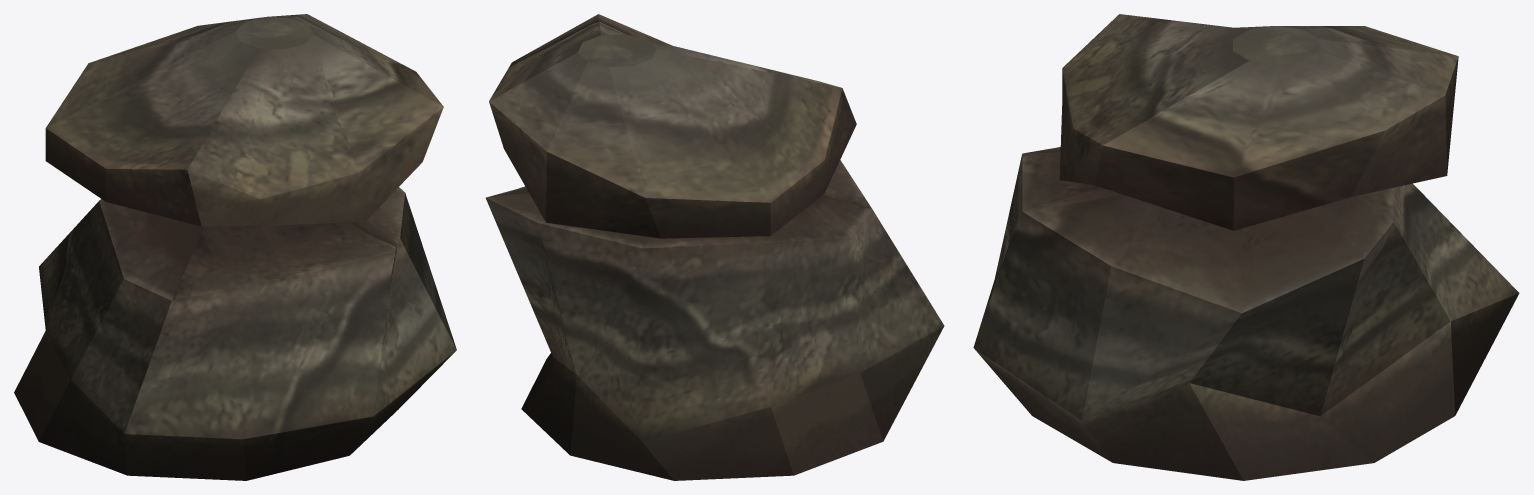
File: Steen 1.fbx
3 renders of one model, left to right at view 1: azimuth 30°, elevation 25°; view 2: azimuth 150°, elevation 25°; view 3: azimuth 270°, elevation 25°, orthographic. The views are drawn at different scales.
Parts seen in each view (by area): view 1: pCylinder1; view 2: pCylinder1; view 3: pCylinder1.
Part boxes in pixels (x1=…): pCylinder1: x1=14, y1=14, x2=456, y2=480; pCylinder1: x1=485, y1=14, x2=944, y2=480; pCylinder1: x1=973, y1=14, x2=1519, y2=480.
Bounding box in the file's own units: 2.23 × 1.93 × 2.46.
